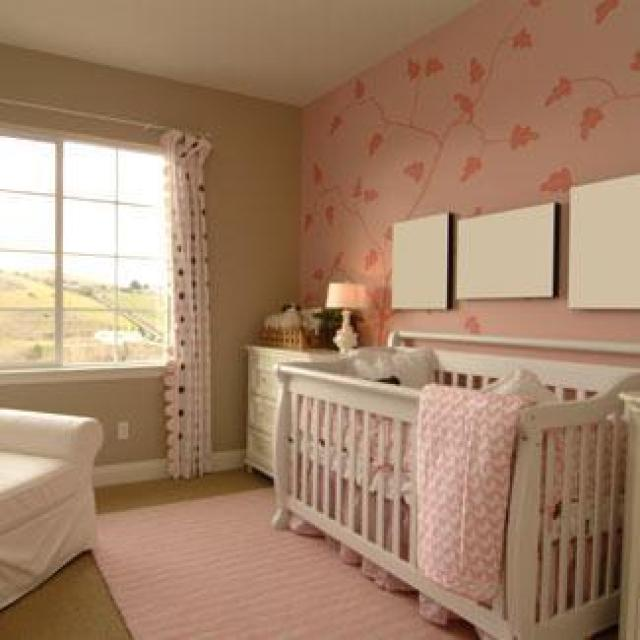crib: (268, 337, 638, 638)
cupboard: (240, 342, 345, 480)
curtains: (158, 126, 212, 481)
lamps: (323, 282, 368, 352)
windows: (0, 114, 173, 378)
